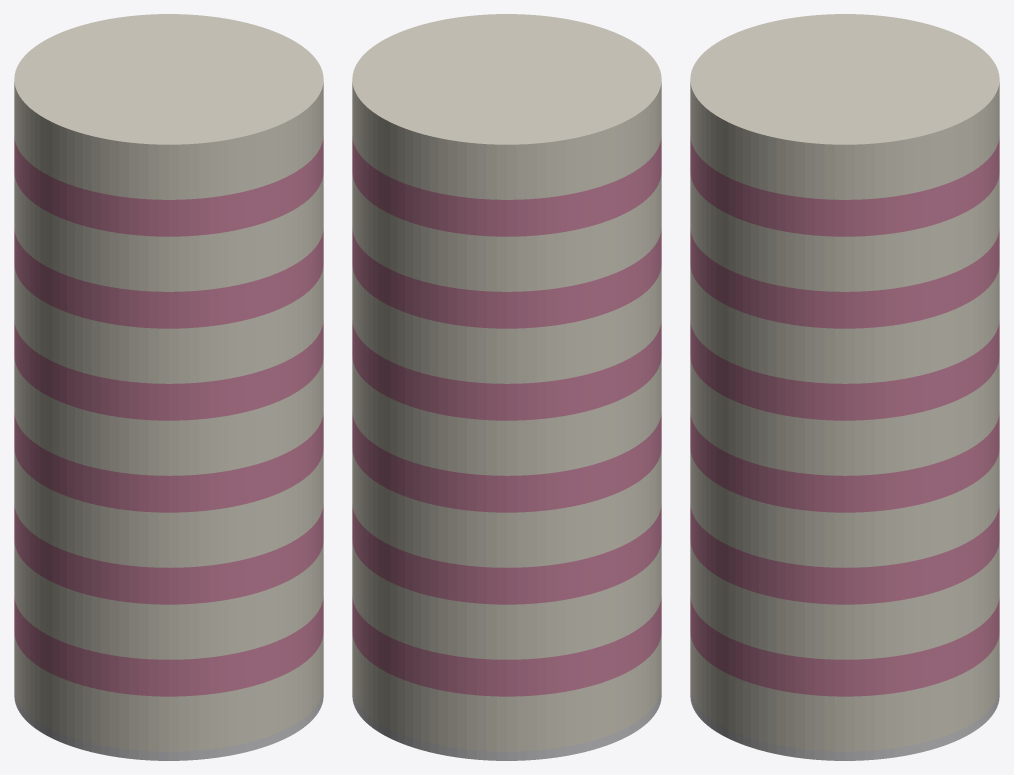
The model's file is cake_6in_layers7.glb.
3 views of the same model, side by side, from view 1: azimuth 30°, elevation 25°; view 2: azimuth 150°, elevation 25°; view 3: azimuth 270°, elevation 25° (orthographic).
Parts seen in each view (by area): view 1: geometry_12, geometry_8, geometry_10, geometry_6, geometry_0, geometry_4, geometry_2, geometry_1, geometry_3, geometry_5, geometry_7, geometry_9 (+2 smaller); view 2: geometry_12, geometry_8, geometry_10, geometry_6, geometry_0, geometry_4, geometry_2, geometry_1, geometry_3, geometry_5, geometry_7, geometry_9 (+2 smaller); view 3: geometry_12, geometry_8, geometry_10, geometry_6, geometry_0, geometry_4, geometry_2, geometry_1, geometry_3, geometry_5, geometry_7, geometry_9 (+2 smaller).
Boxes of the visible parts, bbox=[...] form: geometry_12: bbox=[14, 14, 323, 199]; geometry_8: bbox=[14, 266, 323, 383]; geometry_10: bbox=[14, 174, 323, 291]; geometry_6: bbox=[14, 357, 323, 475]; geometry_0: bbox=[14, 633, 323, 751]; geometry_4: bbox=[14, 449, 323, 567]; geometry_2: bbox=[14, 541, 323, 659]; geometry_1: bbox=[14, 597, 323, 696]; geometry_3: bbox=[14, 505, 323, 604]; geometry_5: bbox=[14, 413, 323, 512]; geometry_7: bbox=[14, 321, 323, 420]; geometry_9: bbox=[14, 229, 323, 328]; geometry_12: bbox=[352, 14, 661, 199]; geometry_8: bbox=[352, 266, 661, 383]; geometry_10: bbox=[352, 174, 661, 291]; geometry_6: bbox=[352, 357, 661, 475]; geometry_0: bbox=[352, 633, 661, 751]; geometry_4: bbox=[352, 449, 661, 567]; geometry_2: bbox=[352, 541, 661, 659]; geometry_1: bbox=[352, 597, 661, 696]; geometry_3: bbox=[352, 505, 661, 604]; geometry_5: bbox=[352, 413, 661, 512]; geometry_7: bbox=[352, 321, 661, 420]; geometry_9: bbox=[352, 229, 661, 328]; geometry_12: bbox=[690, 14, 999, 199]; geometry_8: bbox=[690, 266, 999, 383]; geometry_10: bbox=[690, 174, 999, 291]; geometry_6: bbox=[690, 357, 999, 475]; geometry_0: bbox=[690, 633, 999, 751]; geometry_4: bbox=[690, 449, 999, 567]; geometry_2: bbox=[690, 541, 999, 659]; geometry_1: bbox=[690, 597, 999, 696]; geometry_3: bbox=[690, 505, 999, 604]; geometry_5: bbox=[690, 413, 999, 512]; geometry_7: bbox=[690, 321, 999, 420]; geometry_9: bbox=[690, 229, 999, 328].
Bounding box in the file's own units: 0.1524 × 0.335 × 0.1524.
